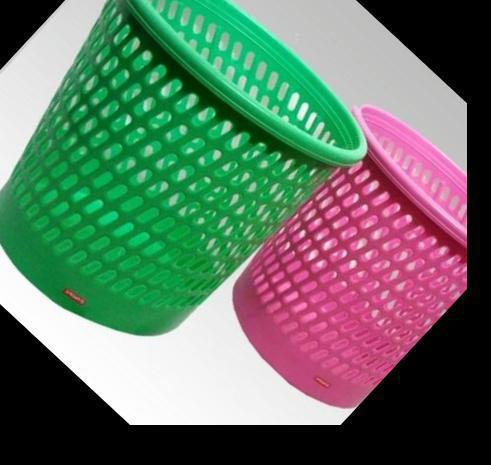Bote de Basura: (0, 0, 392, 395), (188, 90, 491, 431)
